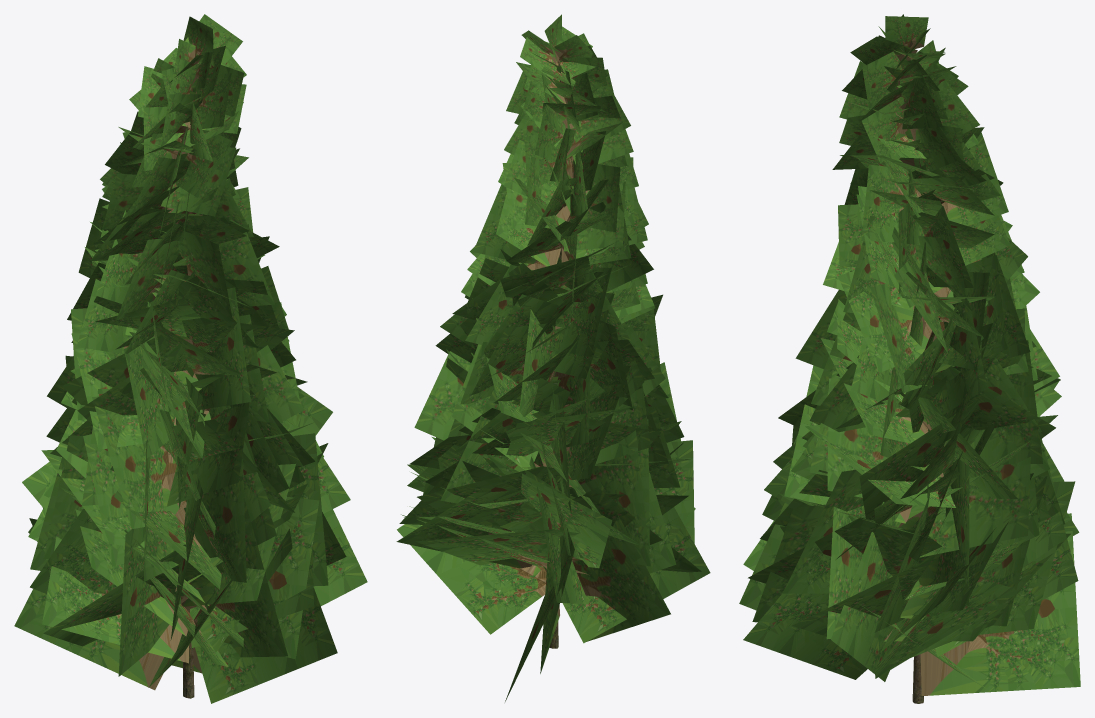
File: low_poly_tree_two.glb
3 views of the same model, side by side, from view 1: azimuth 30°, elevation 25°; view 2: azimuth 150°, elevation 25°; view 3: azimuth 270°, elevation 25° (orthographic). The views are drawn at different scales.
Parts seen in each view (by area): view 1: Tree-1_1; view 2: Tree-1_1; view 3: Tree-1_1.
Part boxes in pixels (box(x1,y1,x2,y2)): Tree-1_1: box(14, 14, 367, 703); Tree-1_1: box(396, 14, 710, 701); Tree-1_1: box(739, 14, 1080, 703).
Bounding box in the file's own units: 0.8181 × 1.7 × 0.7632.
2 materials, 2 textured.
